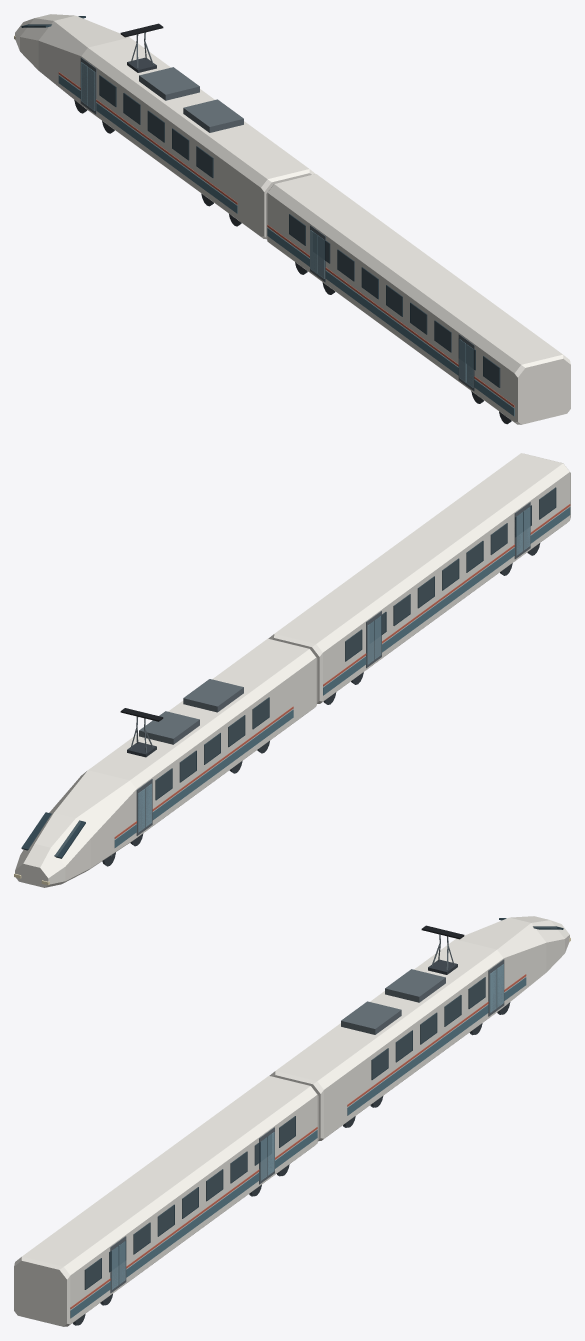
The model's file is RAIL_04.obj.
3 renders of one model, top to bottom at view 1: azimuth 30°, elevation 25°; view 2: azimuth 150°, elevation 25°; view 3: azimuth 330°, elevation 25°, orthographic.
Visible parts, largest first — view 1: carriage, power_car, windows, stripe, roof_equipment, doors; view 2: power_car, carriage, windows, stripe, roof_equipment, doors, cab_windows; view 3: carriage, power_car, windows, stripe, roof_equipment, doors.
Boxes of the visible parts, <box> form: carriage: <box>266,174,570,424</box>; power_car: <box>15,14,315,239</box>; windows: <box>99,75,500,387</box>; stripe: <box>58,72,514,416</box>; roof_equipment: <box>139,67,243,132</box>; doors: <box>80,57,474,391</box>; power_car: <box>15,638,317,887</box>; carriage: <box>268,453,570,703</box>; windows: <box>155,487,556,800</box>; stripe: <box>114,504,570,847</box>; roof_equipment: <box>139,679,243,744</box>; doors: <box>136,502,530,835</box>; cab_windows: <box>21,812,85,858</box>; carriage: <box>14,1076,318,1326</box>; power_car: <box>269,916,569,1141</box>; windows: <box>84,977,485,1289</box>; stripe: <box>70,974,526,1318</box>; roof_equipment: <box>341,969,445,1034</box>; doors: <box>110,959,504,1293</box>.
Bounding box in the file's own units: 3 × 5.68 × 46.55.
